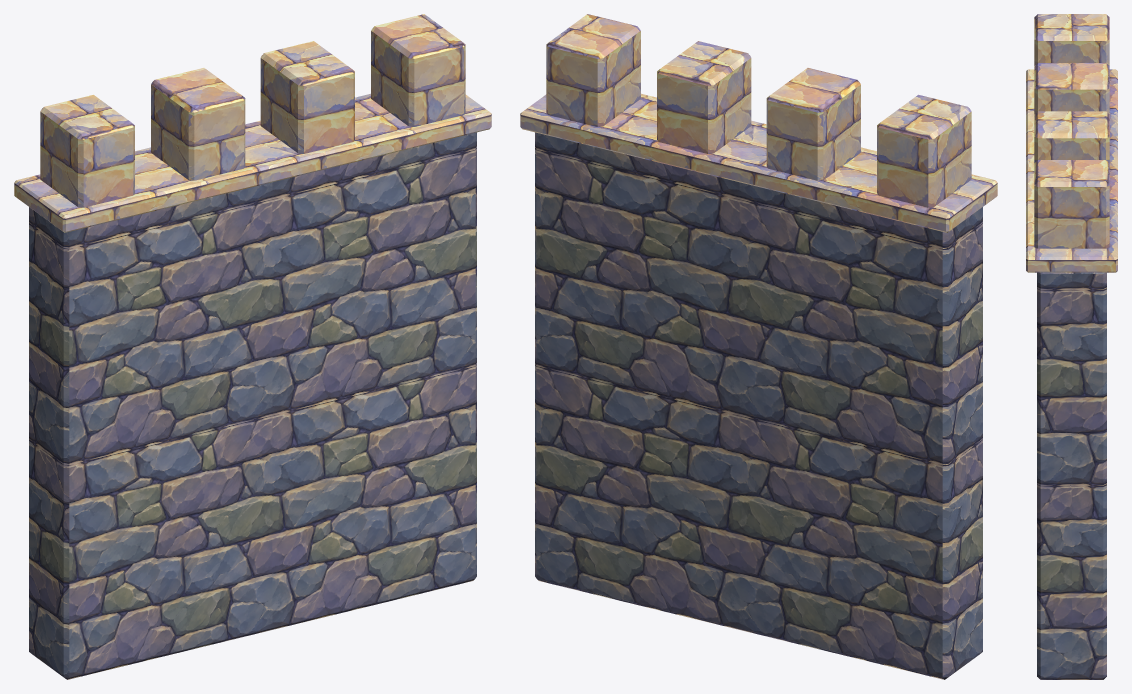
Rendered from Granite_Straight.fbx.
3 renders of one model, left to right at view 1: azimuth 30°, elevation 25°; view 2: azimuth 150°, elevation 25°; view 3: azimuth 270°, elevation 25°, orthographic. The views are drawn at different scales.
Visible parts, largest first — view 1: Granite_Straight.001; view 2: Granite_Straight.001; view 3: Granite_Straight.001.
Boxes of the visible parts, x1,y1,x2,y2 form: Granite_Straight.001: (14,14,491,679); Granite_Straight.001: (520,14,997,679); Granite_Straight.001: (1026,14,1117,679).
Bounding box in the file's own units: 415 × 502 × 85.
Materials: 2 (2 with a texture image).
